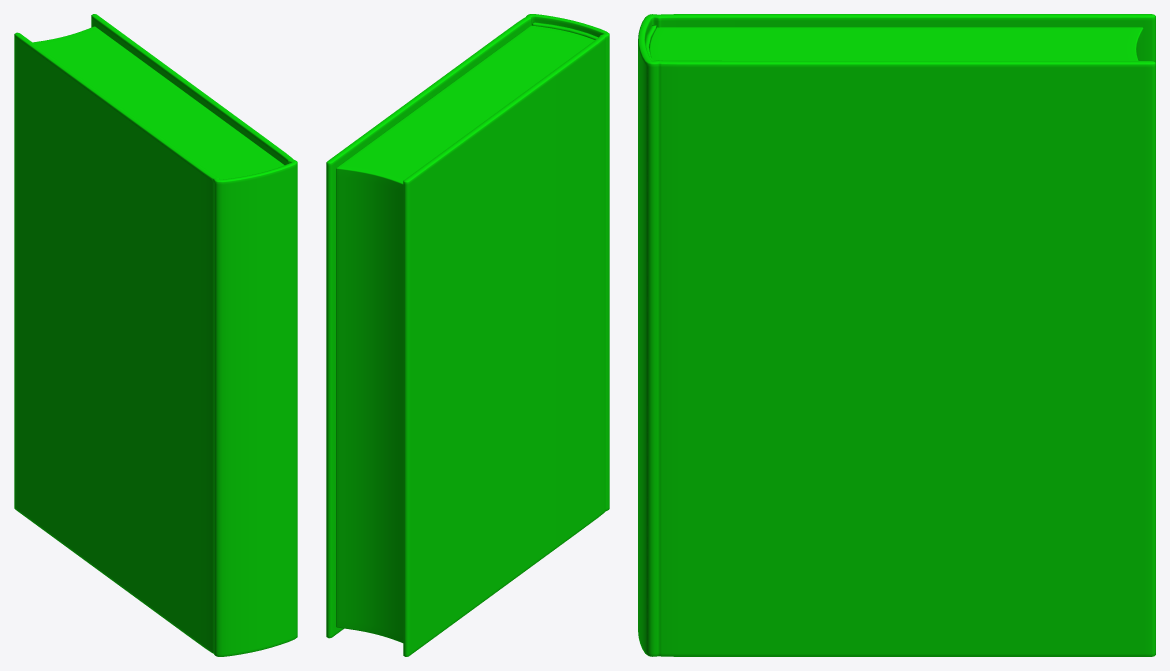
The model's file is Book_msh.fbx.
3 renders of one model, left to right at view 1: azimuth 30°, elevation 25°; view 2: azimuth 150°, elevation 25°; view 3: azimuth 270°, elevation 25°, orthographic. The views are drawn at different scales.
Visible parts, largest first — view 1: Book_msh; view 2: Book_msh; view 3: Book_msh.
Boxes of the visible parts, x1,y1,x2,y2 form: Book_msh: (14, 14, 297, 656); Book_msh: (326, 14, 609, 656); Book_msh: (638, 14, 1155, 656).
Bounding box in the file's own units: 3.32 × 18.29 × 14.45.
